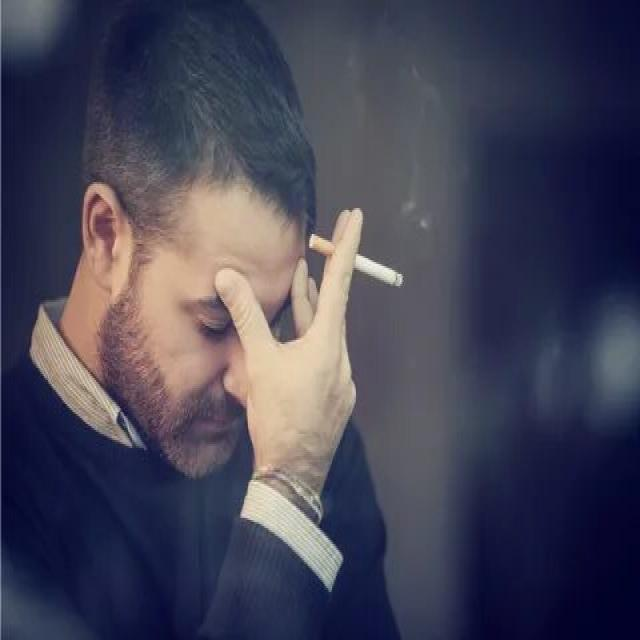smoke: (305, 232, 408, 292)
